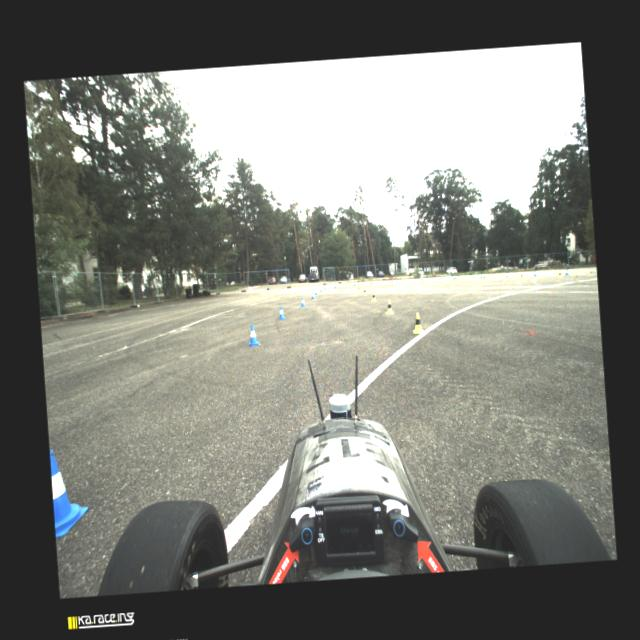blue_cone: (49, 448, 90, 538), (246, 323, 260, 346), (276, 306, 286, 319), (298, 296, 306, 306), (310, 291, 314, 299), (564, 268, 568, 275), (314, 288, 318, 294), (532, 270, 536, 276), (322, 284, 326, 290), (319, 286, 322, 292), (480, 272, 483, 278), (504, 272, 508, 276), (353, 281, 356, 286), (334, 283, 336, 288), (376, 280, 378, 284), (395, 278, 397, 282), (422, 277, 424, 281), (453, 275, 455, 279)
yellow_cone: (412, 312, 424, 334), (384, 299, 394, 314), (371, 290, 376, 302), (362, 288, 367, 296), (557, 270, 562, 278), (520, 272, 524, 278), (482, 274, 486, 280), (454, 276, 457, 280), (370, 280, 372, 286), (420, 277, 422, 282), (391, 279, 393, 284), (358, 286, 360, 290)
